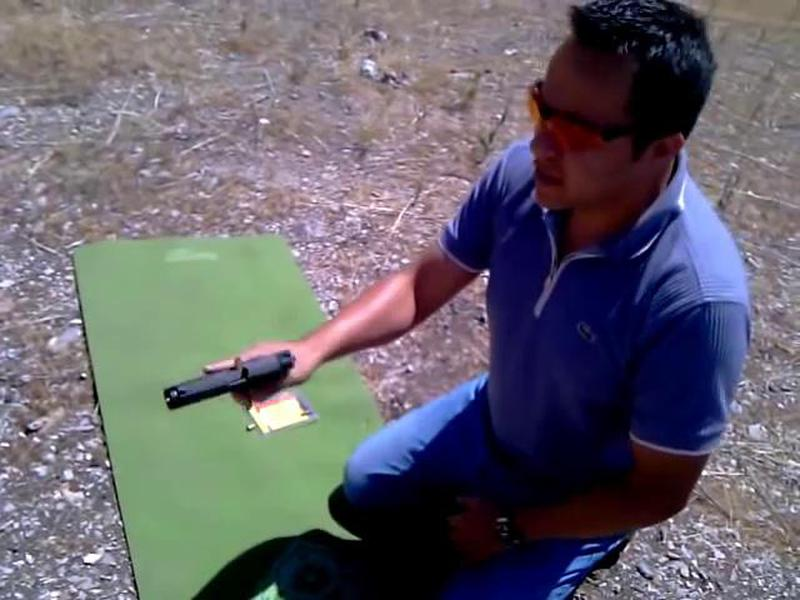Pistola: (147, 332, 314, 441)
